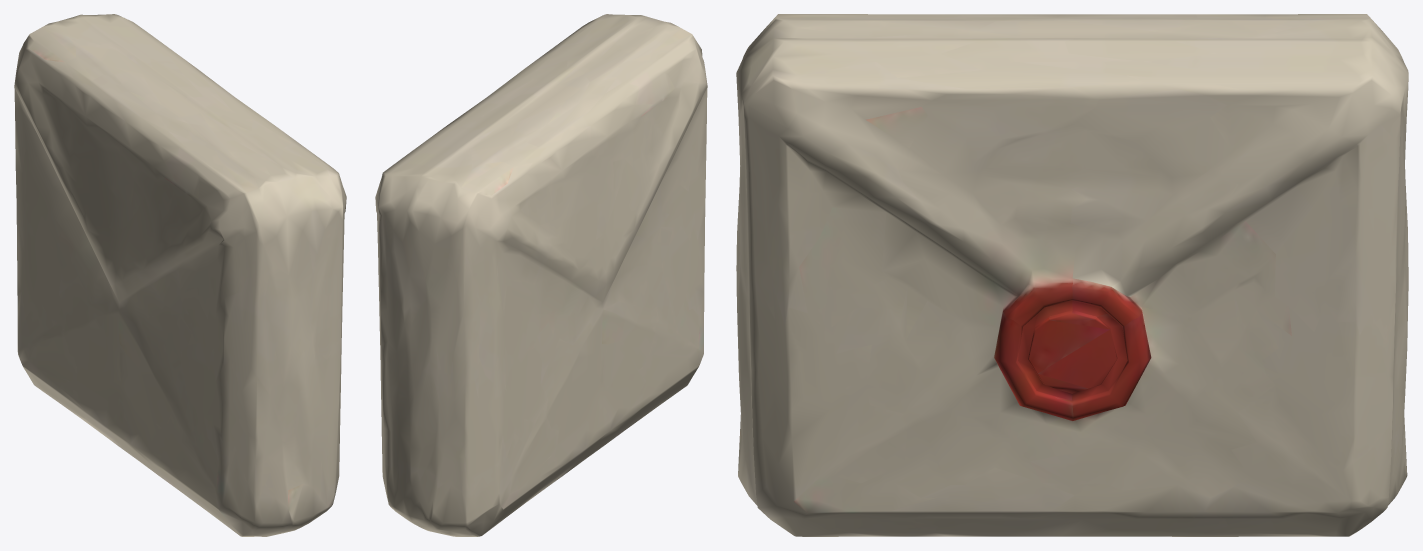
File: contact.glb
The picture shows the model from 3 angles, left to right: view 1: azimuth 30°, elevation 25°; view 2: azimuth 150°, elevation 25°; view 3: azimuth 270°, elevation 25°; orthographic projection. The views are drawn at different scales.
Visible parts, largest first — view 1: tripo_node_9babff15-d7cc-446e-b1a5-c94e25049b18; view 2: tripo_node_9babff15-d7cc-446e-b1a5-c94e25049b18; view 3: tripo_node_9babff15-d7cc-446e-b1a5-c94e25049b18.
Part boxes in pixels (box(x1,y1,x2,y2)): tripo_node_9babff15-d7cc-446e-b1a5-c94e25049b18: box(14, 14, 346, 536); tripo_node_9babff15-d7cc-446e-b1a5-c94e25049b18: box(375, 14, 707, 536); tripo_node_9babff15-d7cc-446e-b1a5-c94e25049b18: box(736, 14, 1408, 536).
Size of the model in its own units: 0.6341 by 1.59 by 2.
Materials: 1 (1 with a texture image).
